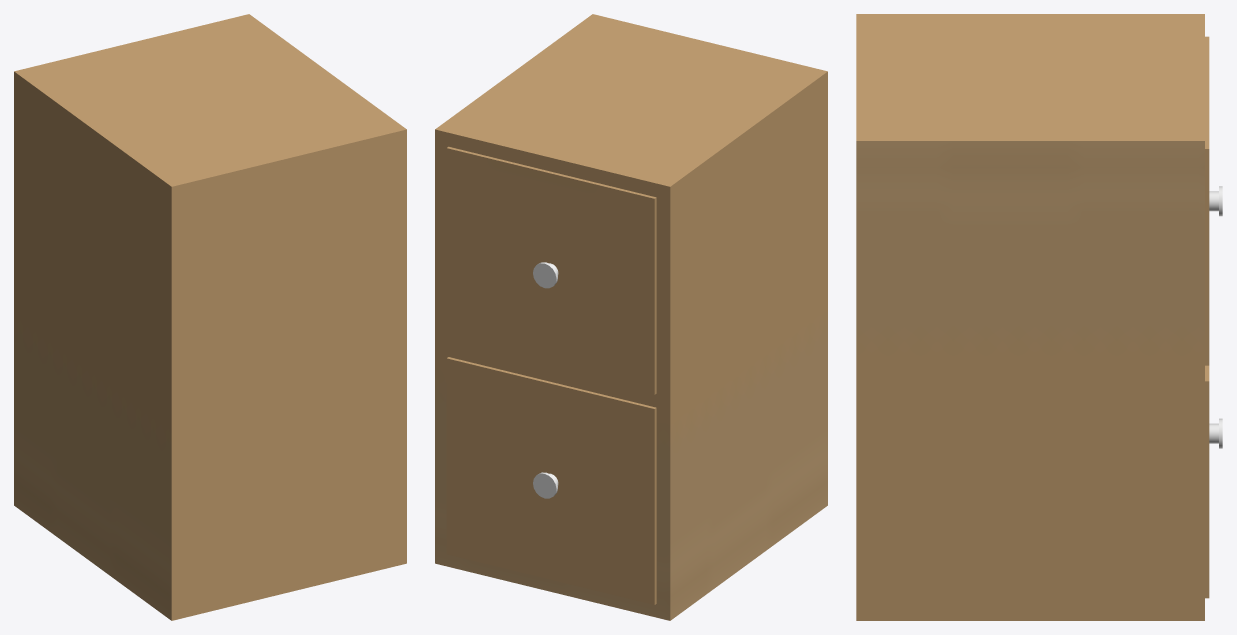
The model's file is Drawer09.glb.
The picture shows the model from 3 angles, left to right: view 1: azimuth 30°, elevation 25°; view 2: azimuth 150°, elevation 25°; view 3: azimuth 270°, elevation 25°; orthographic projection. The views are drawn at different scales.
Parts seen in each view (by area): view 1: Drawer_Body09; view 2: Drawer_Body09, Drawer09_1, Drawer09_2; view 3: Drawer_Body09, Drawer09_1, Drawer09_2.
Part boxes in pixels (x1,y1,x2,y2): Drawer_Body09: (14,14,406,620); Drawer_Body09: (435,14,827,620); Drawer09_1: (446,146,656,394); Drawer09_2: (446,357,656,604); Drawer_Body09: (856,14,1204,620); Drawer09_1: (1205,36,1222,365); Drawer09_2: (1205,365,1222,598).
Size of the model in its own units: 0.5545 by 0.9779 by 0.6766.
1 material, 1 textured.
